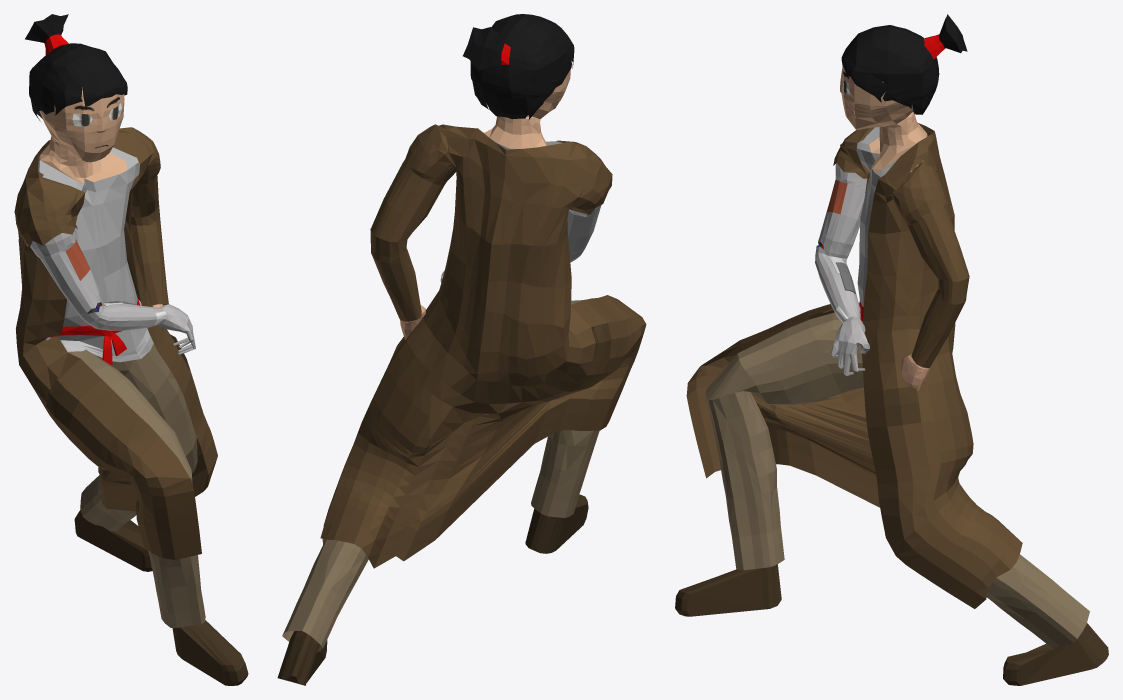
The model's file is One_RL_000020.obj.
3 renders of one model, left to right at view 1: azimuth 30°, elevation 25°; view 2: azimuth 150°, elevation 25°; view 3: azimuth 270°, elevation 25°, orthographic. The views are drawn at different scales.
Visible parts, largest first — view 1: Hair_Cube.004; view 2: Hair_Cube.004; view 3: Hair_Cube.004.
Part boxes in pixels (x1,y1,x2,y2): Hair_Cube.004: [14, 14, 248, 685]; Hair_Cube.004: [277, 14, 646, 685]; Hair_Cube.004: [675, 14, 1108, 685].
Size of the model in its own units: 1.27 by 3.45 by 2.26.
